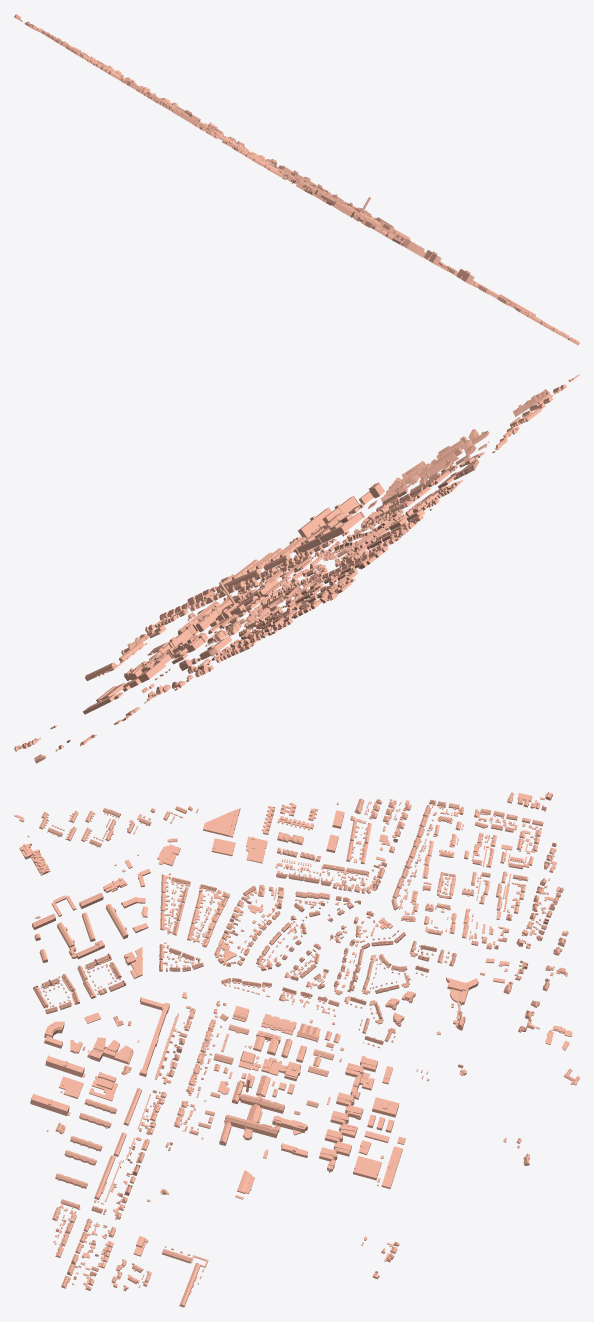
3 views of the same model, one above another, from view 1: azimuth 30°, elevation 25°; view 2: azimuth 150°, elevation 25°; view 3: azimuth 270°, elevation 25° (orthographic). The views are drawn at different scales.
Bounding box in the file's own units: 1073 × 779 × 1265.
